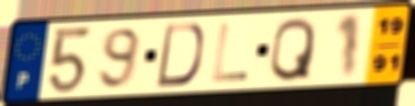1: (332, 11, 360, 82)
5: (46, 26, 94, 96)
9: (96, 26, 144, 90)
D: (153, 21, 206, 89)
L: (210, 22, 250, 85)
Q: (267, 15, 318, 84)
